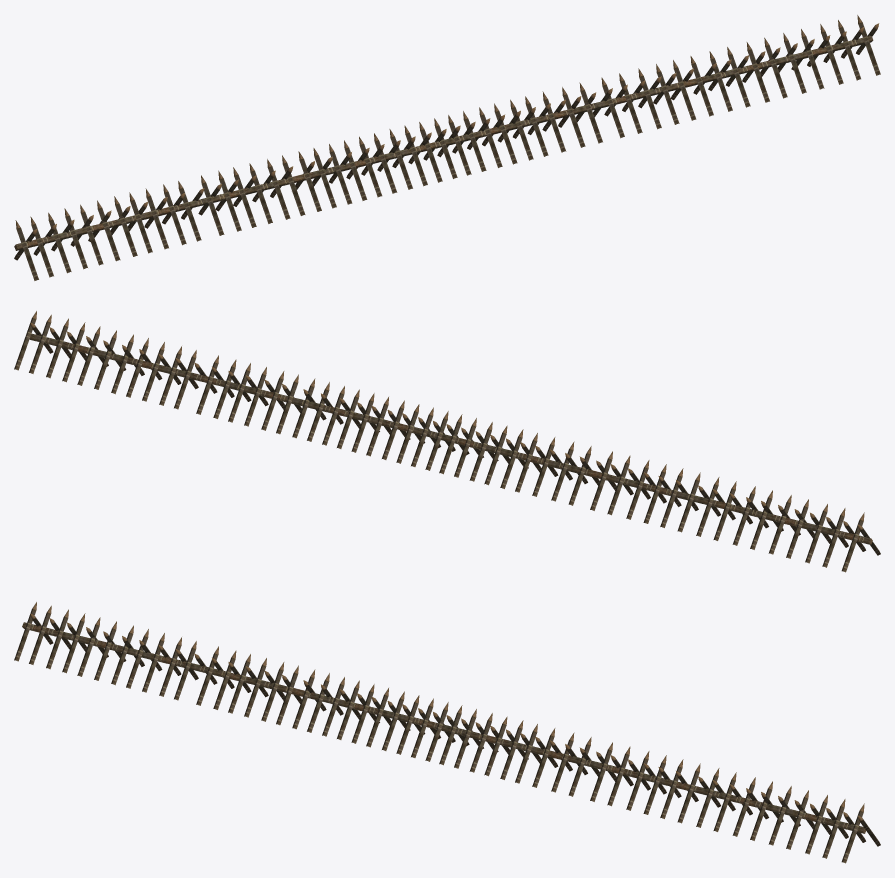
File: barricade_03.glb
3 renders of one model, top to bottom at view 1: azimuth 30°, elevation 25°; view 2: azimuth 150°, elevation 25°; view 3: azimuth 330°, elevation 25°, orthographic.
Visible parts, largest first — view 1: res\artifact\guild\barricade\barricade_03.bsr; view 2: res\artifact\guild\barricade\barricade_03.bsr; view 3: res\artifact\guild\barricade\barricade_03.bsr.
Boxes of the visible parts, x1,y1,x2,y2 form: res\artifact\guild\barricade\barricade_03.bsr: (14,15,880,280); res\artifact\guild\barricade\barricade_03.bsr: (14,311,880,572); res\artifact\guild\barricade\barricade_03.bsr: (14,602,880,863).
Bounding box in the file's own units: 301 × 15.73 × 18.33.
2 materials, 2 textured.
